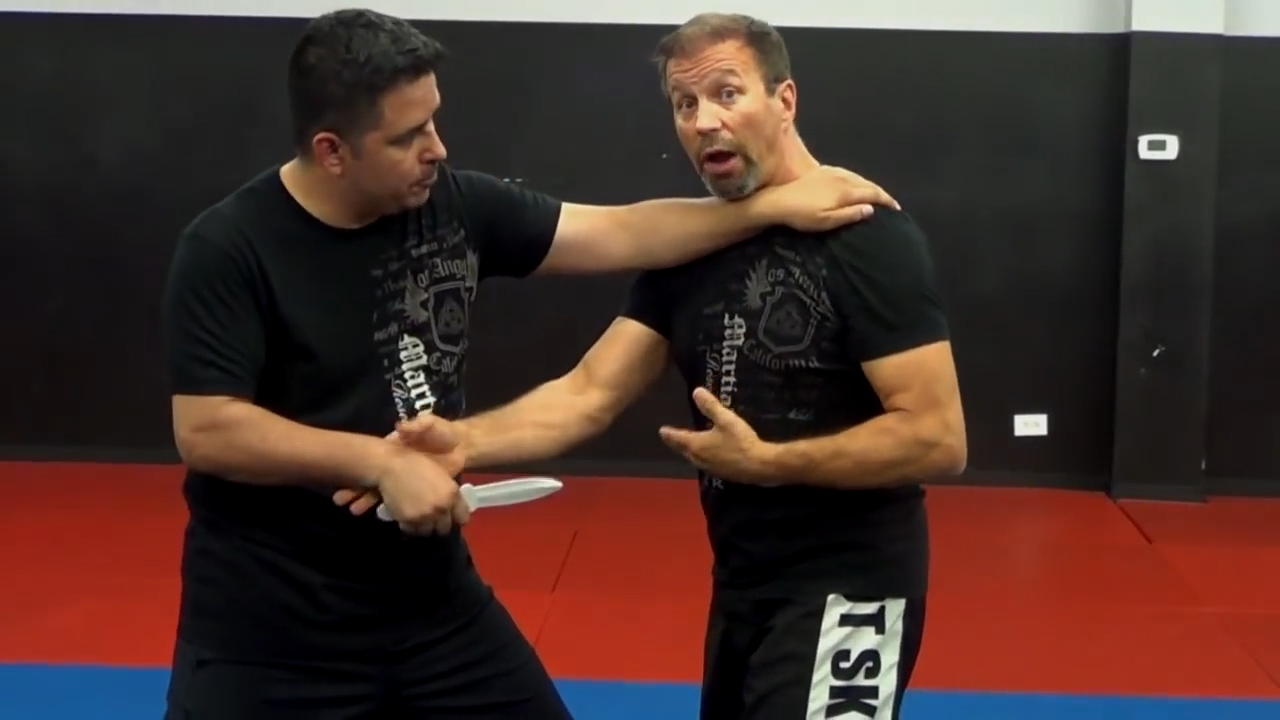knife: (374, 470, 571, 536)
